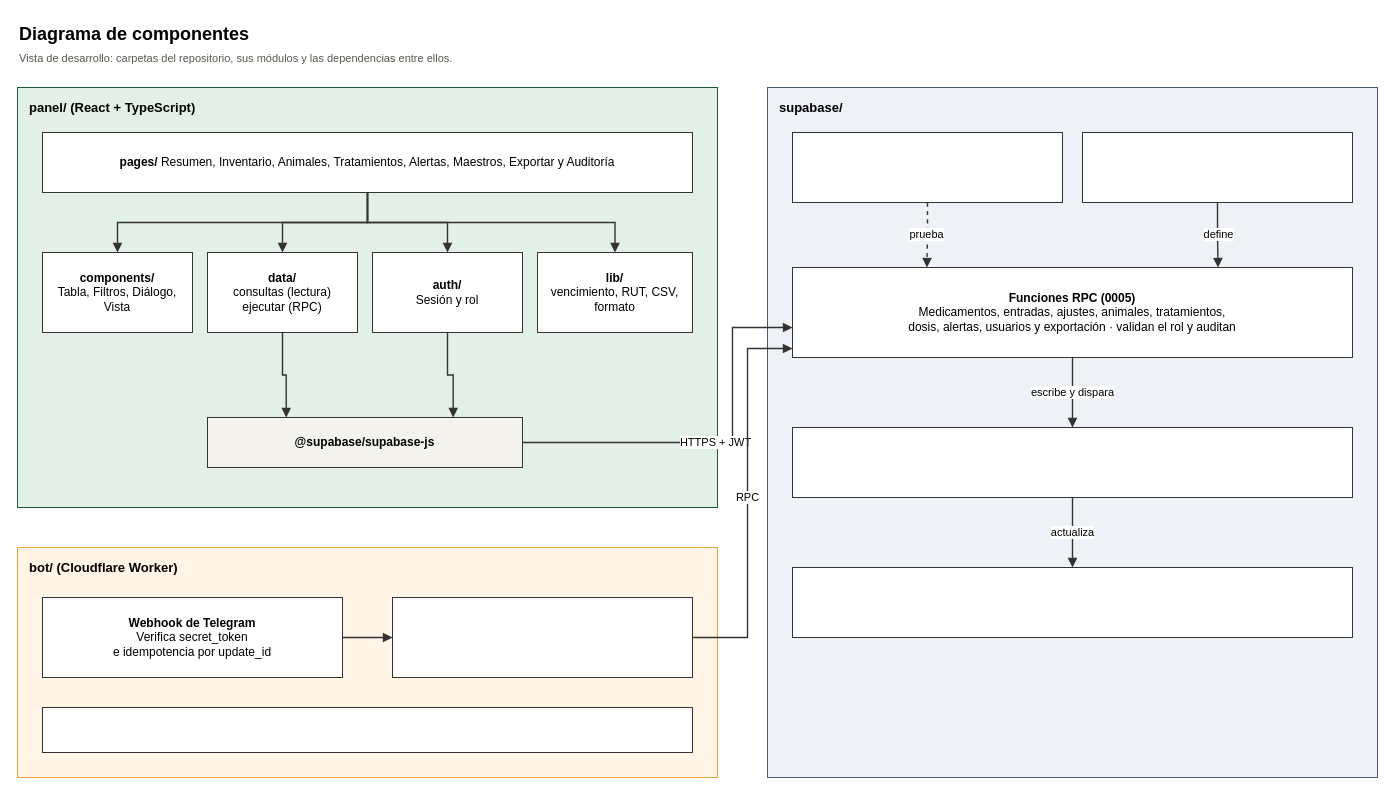
The diagram is 1395 pixels wide and 795 high, and some of its shapes have lost their labels. Here are the shapes that lost their labels. From the top down, the centre of each, then its label:
At point (927, 167): "tests/0001 a 0005 Pruebas SQL con ROLLBACK".
At point (1217, 167): "migrations/0001 a 0005 Tablas, RLS, triggers y funciones".
At point (1072, 462): "Triggers (0001) Stock por lote · historial y auditoría de solo inserción".
At point (1072, 602): "Tablas con RLS 17 tablas; lectura según el rol".
At point (542, 637): "Importación Valida entidades y uuid".
At point (367, 729): "Cabeceras de seguridad : HSTS, CSP, nosniff, CORP (en todas las respuestas)".
